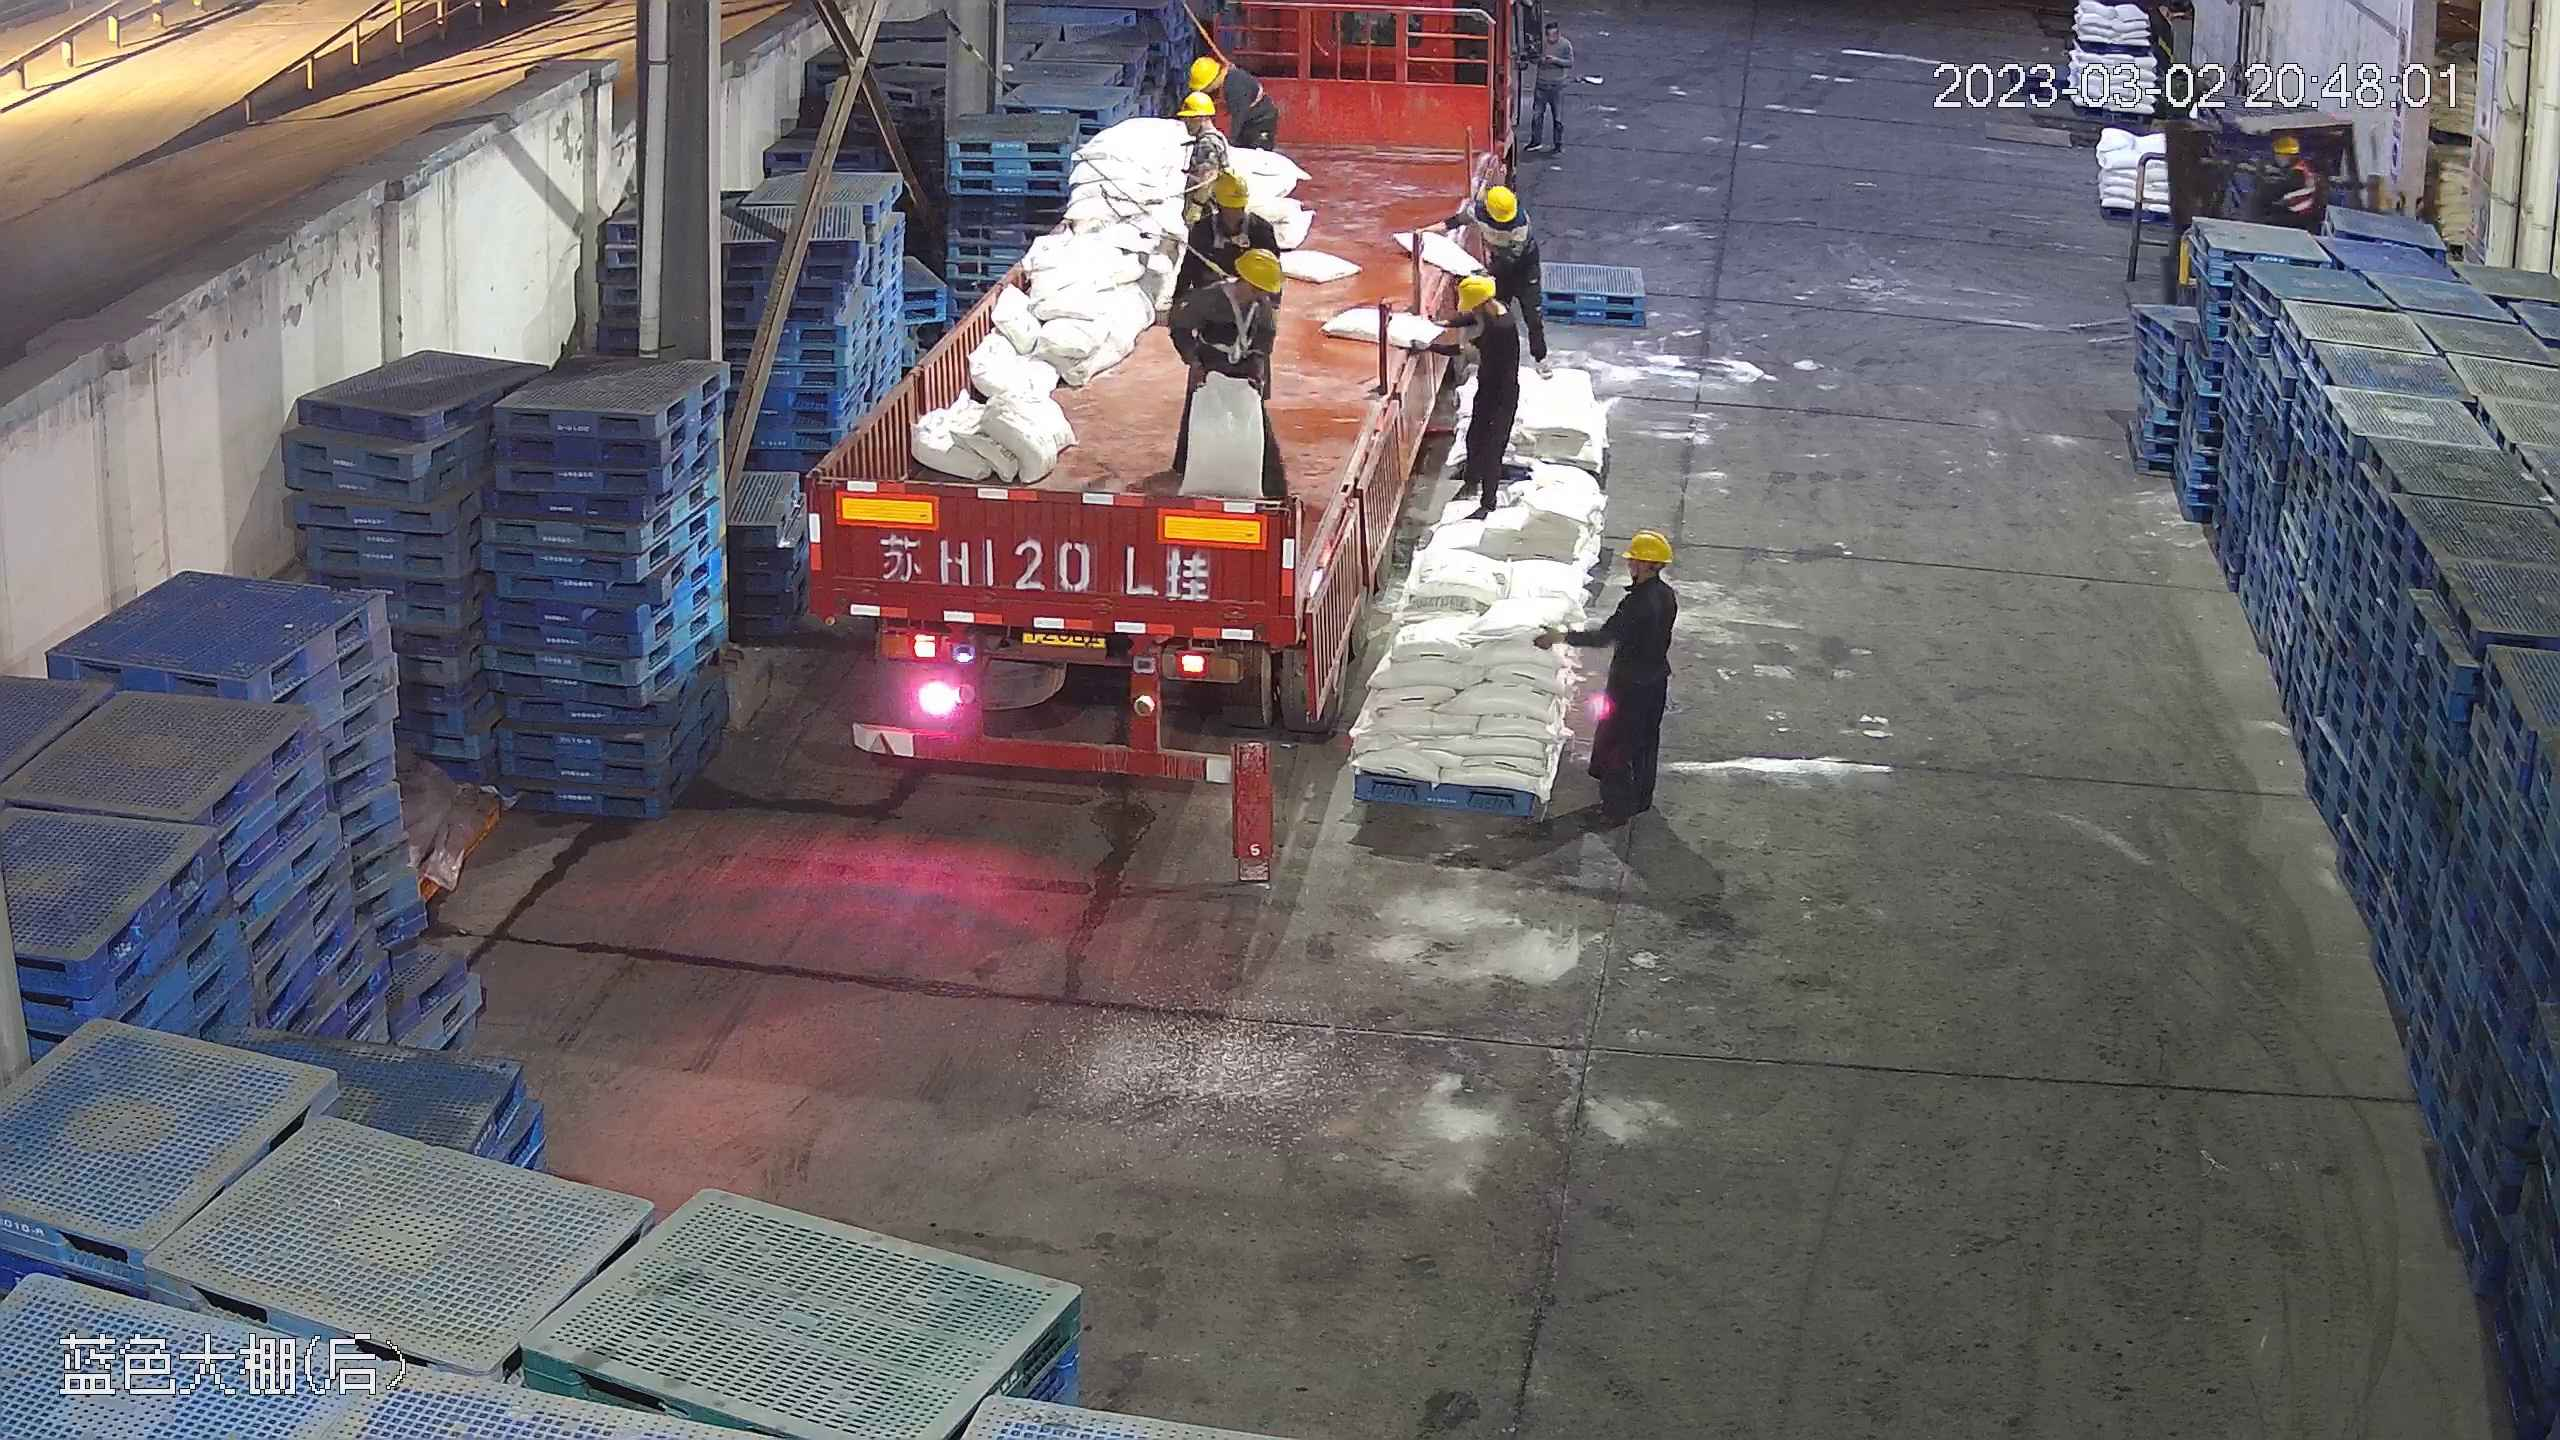belt: (1181, 276, 1265, 354), (1185, 197, 1252, 262), (1182, 129, 1237, 190), (1214, 53, 1268, 109)
head: (1180, 248, 1284, 332), (1608, 528, 1677, 630), (1180, 164, 1270, 240), (1444, 276, 1526, 357), (1452, 182, 1531, 251), (1171, 91, 1230, 161), (1184, 56, 1260, 104), (1533, 19, 1575, 73), (2269, 134, 2312, 182)
helmet: (1235, 245, 1287, 294), (1620, 527, 1672, 563), (1187, 54, 1225, 95), (1453, 274, 1495, 312), (1209, 172, 1252, 209), (1481, 183, 1518, 221), (1176, 93, 1217, 119), (2273, 133, 2302, 156)
people: (1561, 524, 1680, 828), (1159, 232, 1286, 507), (1438, 274, 1523, 523), (1442, 182, 1543, 379), (1171, 90, 1234, 233), (1184, 54, 1277, 151), (1521, 16, 1575, 159), (2263, 134, 2322, 228)
truck: (806, 16, 1497, 777)
